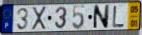3: (54, 6, 68, 30), (16, 7, 29, 31)
5: (71, 5, 87, 31)
L: (112, 5, 126, 28)
N: (92, 4, 111, 31)
X: (31, 6, 48, 31)
